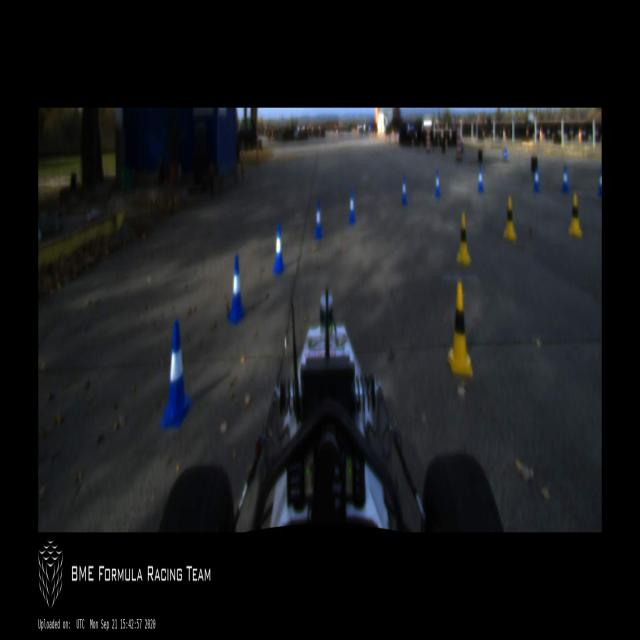blue_cone: (159, 320, 192, 428), (228, 256, 245, 326), (273, 222, 285, 276), (314, 199, 323, 240), (348, 190, 355, 225), (400, 176, 408, 206), (434, 169, 441, 197), (562, 165, 569, 193), (477, 167, 484, 193), (533, 167, 540, 192), (598, 170, 602, 198)
yellow_cone: (448, 282, 473, 378), (457, 212, 471, 267), (568, 192, 583, 238), (504, 196, 516, 242)
